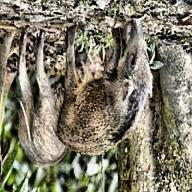boar: (55, 20, 172, 166), (7, 33, 70, 175)
